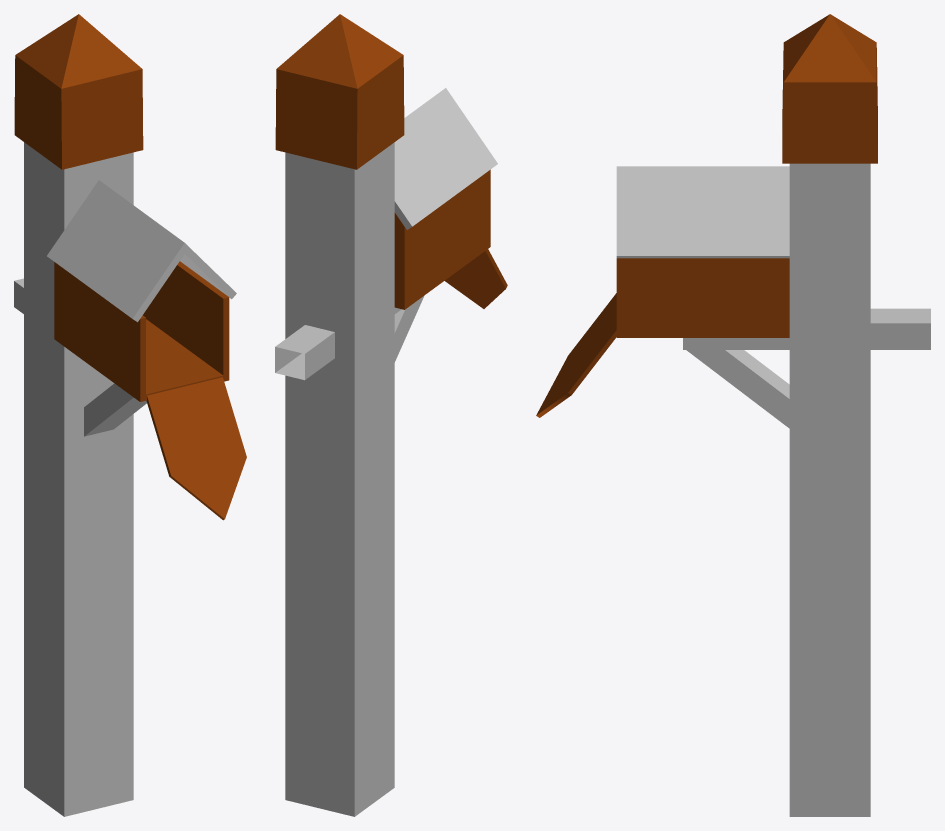
Rendered from letter_box_2.FBX.
3 renders of one model, left to right at view 1: azimuth 30°, elevation 25°; view 2: azimuth 150°, elevation 25°; view 3: azimuth 270°, elevation 25°, orthographic.
Visible parts, largest first — view 1: letter_box_2; view 2: letter_box_2; view 3: letter_box_2.
Part boxes in pixels (box(x1,y1,x2,y2)): letter_box_2: box(14, 14, 246, 816); letter_box_2: box(275, 14, 507, 816); letter_box_2: box(536, 14, 930, 816).
Bounding box in the file's own units: 0.2783 × 1.98 × 0.9031.
Materials: 1 (1 with a texture image).
